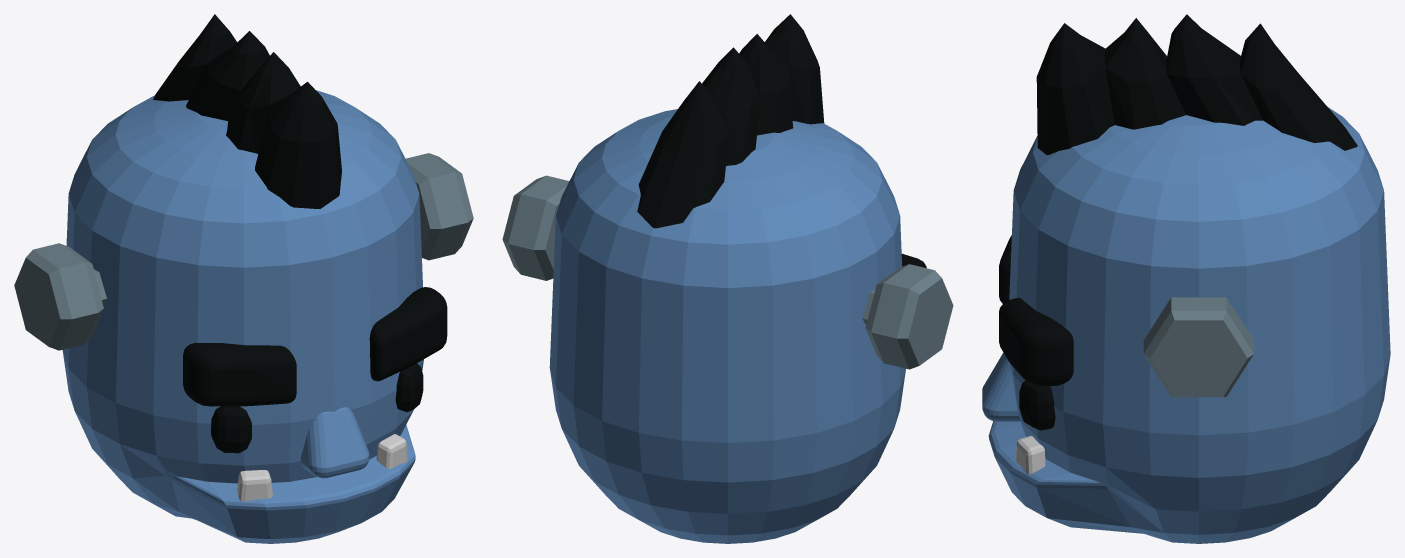
File: character_monsterHead.obj
3 renders of one model, left to right at view 1: azimuth 30°, elevation 25°; view 2: azimuth 150°, elevation 25°; view 3: azimuth 270°, elevation 25°, orthographic. The views are drawn at different scales.
Visible parts, largest first — view 1: character_monsterHead_Cube.034; view 2: character_monsterHead_Cube.034; view 3: character_monsterHead_Cube.034.
Boxes of the visible parts, left/top/right/bottom form: character_monsterHead_Cube.034: left=14, top=14, right=473, bottom=543; character_monsterHead_Cube.034: left=502, top=14, right=953, bottom=543; character_monsterHead_Cube.034: left=982, top=14, right=1390, bottom=543.
Bounding box in the file's own units: 1.31 × 1.41 × 1.06.
